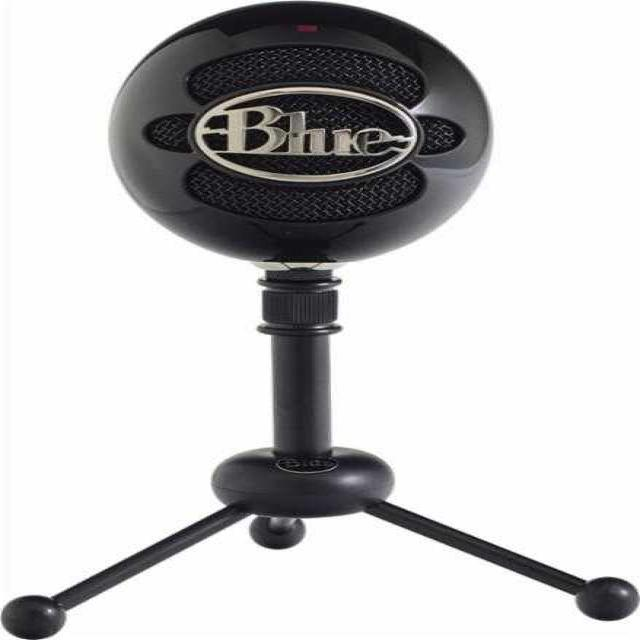microphone: (74, 0, 522, 442)
